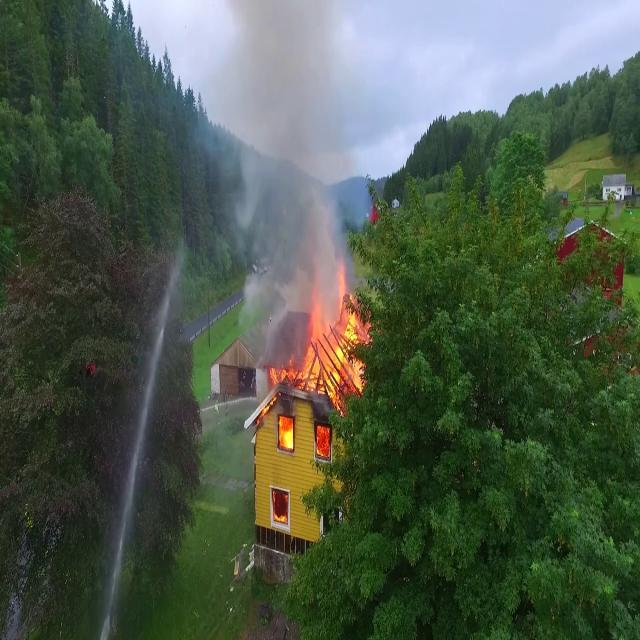Fire: (297, 270, 373, 402)
Smoke: (227, 1, 349, 350)
